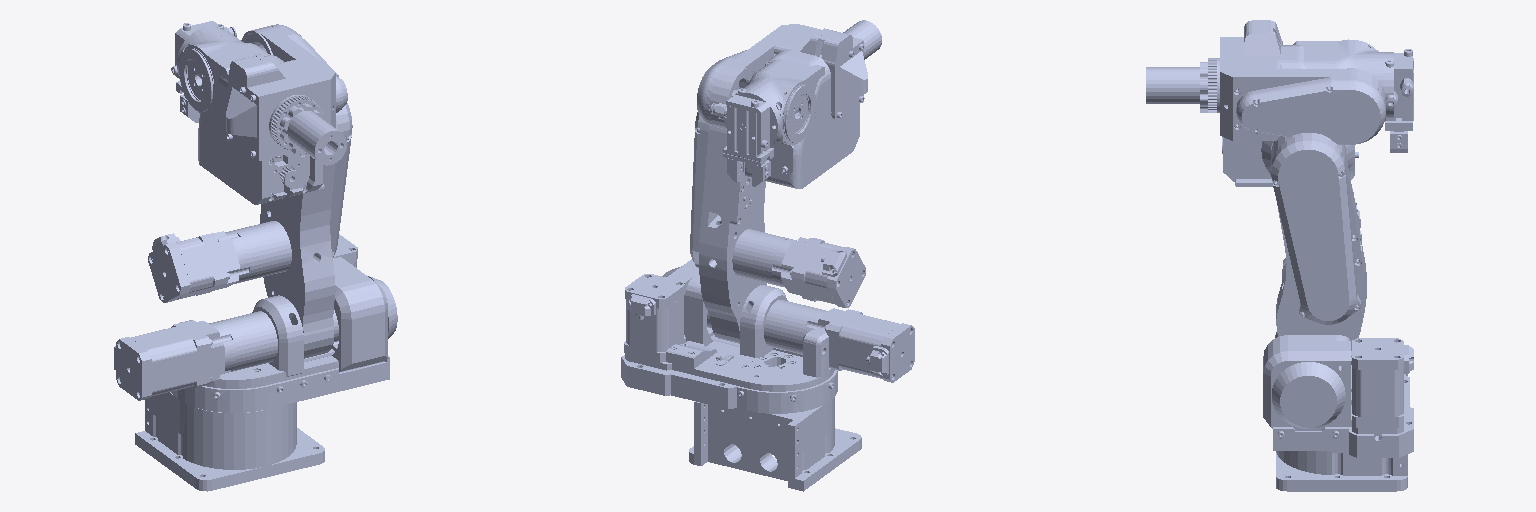
URDF robot description (urdf):
<?xml version="1.0" encoding="utf-8"?>
<!-- This URDF was automatically created by SolidWorks to URDF Exporter! Originally created by Stephen Brawner (brawner@gmail.com) 
     Commit Version: 1.6.0-4-g7f85cfe  Build Version: 1.6.7995.38578
     For more information, please see http://wiki.ros.org/sw_urdf_exporter -->
<robot
  name="urdf">
  <link
    name="base_link">
    <inertial>
      <origin
        xyz="0.000339369597382835 0.00275010725925353 0.0336931378468399"
        rpy="0 0 0" />
      <mass
        value="0.443780931445144" />
      <inertia
        ixx="0.000552454163277918"
        ixy="5.42460911463591E-06"
        ixz="3.64895725241779E-07"
        iyy="0.000635645849180961"
        iyz="-1.13807172613121E-05"
        izz="0.000838262300144542" />
    </inertial>
    <visual>
      <origin
        xyz="0 0 0"
        rpy="0 0 0" />
      <geometry>
        <mesh
          filename="package://urdf/meshes/base_link.STL" />
      </geometry>
      <material
        name="">
        <color
          rgba="0.792156862745098 0.819607843137255 0.933333333333333 1" />
      </material>
    </visual>
    <collision>
      <origin
        xyz="0 0 0"
        rpy="0 0 0" />
      <geometry>
        <mesh
          filename="package://urdf/meshes/base_link.STL" />
      </geometry>
    </collision>
  </link>
  <link
    name="Link1">
    <inertial>
      <origin
        xyz="-0.0268378915375606 0.00438889130322714 0.038620617183439"
        rpy="0 0 0" />
      <mass
        value="0.714843620519897" />
      <inertia
        ixx="0.000587734890630396"
        ixy="5.80390290102342E-05"
        ixz="0.00011469463473121"
        iyy="0.001072287951425"
        iyz="-5.58835405379245E-05"
        izz="0.00126237609971726" />
    </inertial>
    <visual>
      <origin
        xyz="0 0 0"
        rpy="0 0 0" />
      <geometry>
        <mesh
          filename="package://urdf/meshes/Link1.STL" />
      </geometry>
      <material
        name="">
        <color
          rgba="0.792156862745098 0.819607843137255 0.933333333333333 1" />
      </material>
    </visual>
    <collision>
      <origin
        xyz="0 0 0"
        rpy="0 0 0" />
      <geometry>
        <mesh
          filename="package://urdf/meshes/Link1.STL" />
      </geometry>
    </collision>
  </link>
  <joint
    name="J1"
    type="revolute">
    <origin
      xyz="0 0 0.06"
      rpy="0 0 -3.1416" />
    <parent
      link="base_link" />
    <child
      link="Link1" />
    <axis
      xyz="0 0 -1" />
    <limit
      lower="0"
      upper="0"
      effort="0"
      velocity="0" />
  </joint>
  <link
    name="Link2">
    <inertial>
      <origin
        xyz="-0.0087691493923573 -0.0741773118359219 0.0360188077549114"
        rpy="0 0 0" />
      <mass
        value="0.549915908799215" />
      <inertia
        ixx="0.00120445546613287"
        ixy="7.13064910260932E-06"
        ixz="-1.5593179076924E-06"
        iyy="0.000181965514560672"
        iyz="-9.71909591541968E-07"
        izz="0.00131008018011153" />
    </inertial>
    <visual>
      <origin
        xyz="0 0 0"
        rpy="0 0 0" />
      <geometry>
        <mesh
          filename="package://urdf/meshes/Link2.STL" />
      </geometry>
      <material
        name="">
        <color
          rgba="0.792156862745098 0.819607843137255 0.933333333333333 1" />
      </material>
    </visual>
    <collision>
      <origin
        xyz="0 0 0"
        rpy="0 0 0" />
      <geometry>
        <mesh
          filename="package://urdf/meshes/Link2.STL" />
      </geometry>
    </collision>
  </link>
  <joint
    name="J2"
    type="revolute">
    <origin
      xyz="0 0.0234 0.0505"
      rpy="-1.5708 0 1.5708" />
    <parent
      link="Link1" />
    <child
      link="Link2" />
    <axis
      xyz="0 0 1" />
    <limit
      lower="0"
      upper="0"
      effort="0"
      velocity="0" />
  </joint>
  <link
    name="Link3">
    <inertial>
      <origin
        xyz="0.0156265632905355 0.0150442910404316 -0.0027402394132053"
        rpy="0 0 0" />
      <mass
        value="0.31140445561396" />
      <inertia
        ixx="0.000355648928977397"
        ixy="-7.8808263975844E-05"
        ixz="-1.31921786598303E-05"
        iyy="0.000363115314567086"
        iyz="-9.93389103064796E-06"
        izz="0.000458525188905546" />
    </inertial>
    <visual>
      <origin
        xyz="0 0 0"
        rpy="0 0 0" />
      <geometry>
        <mesh
          filename="package://urdf/meshes/Link3.STL" />
      </geometry>
      <material
        name="">
        <color
          rgba="0.792156862745098 0.819607843137255 0.933333333333333 1" />
      </material>
    </visual>
    <collision>
      <origin
        xyz="0 0 0"
        rpy="0 0 0" />
      <geometry>
        <mesh
          filename="package://urdf/meshes/Link3.STL" />
      </geometry>
    </collision>
  </link>
  <joint
    name="J3"
    type="revolute">
    <origin
      xyz="0.0002 -0.18 0"
      rpy="-3.1416 0 0" />
    <parent
      link="Link2" />
    <child
      link="Link3" />
    <axis
      xyz="0 0 1" />
    <limit
      lower="0"
      upper="0"
      effort="0"
      velocity="0" />
  </joint>
  <link
    name="Link4">
    <inertial>
      <origin
        xyz="-0.0132810259990061 -0.000320875110798369 -0.0286184959152811"
        rpy="0 0 0" />
      <mass
        value="0.286762434800896" />
      <inertia
        ixx="0.000273272587136375"
        ixy="1.60874482368838E-06"
        ixz="-4.52821081345524E-05"
        iyy="0.000265236633639222"
        iyz="3.14249123824448E-07"
        izz="0.000149984275318857" />
    </inertial>
    <visual>
      <origin
        xyz="0 0 0"
        rpy="0 0 0" />
      <geometry>
        <mesh
          filename="package://urdf/meshes/Link4.STL" />
      </geometry>
      <material
        name="">
        <color
          rgba="0.792156862745098 0.819607843137255 0.933333333333333 1" />
      </material>
    </visual>
    <collision>
      <origin
        xyz="0 0 0"
        rpy="0 0 0" />
      <geometry>
        <mesh
          filename="package://urdf/meshes/Link4.STL" />
      </geometry>
    </collision>
  </link>
  <joint
    name="J4"
    type="revolute">
    <origin
      xyz="0.071 0.0435 0"
      rpy="3.1416 -1.5708 0" />
    <parent
      link="Link3" />
    <child
      link="Link4" />
    <axis
      xyz="0 0 1" />
    <limit
      lower="0"
      upper="0"
      effort="0"
      velocity="0" />
  </joint>
  <link
    name="Link5">
    <inertial>
      <origin
        xyz="0.0075412665616055 2.23804536563232E-05 -0.00157786748261055"
        rpy="0 0 0" />
      <mass
        value="0.19679388536853" />
      <inertia
        ixx="8.56888952240538E-05"
        ixy="1.44577085621909E-07"
        ixz="5.00740798986512E-07"
        iyy="9.4611341467242E-05"
        iyz="7.24501458526887E-08"
        izz="9.73525826430094E-05" />
    </inertial>
    <visual>
      <origin
        xyz="0 0 0"
        rpy="0 0 0" />
      <geometry>
        <mesh
          filename="package://urdf/meshes/Link5.STL" />
      </geometry>
      <material
        name="">
        <color
          rgba="0.792156862745098 0.819607843137255 0.933333333333333 1" />
      </material>
    </visual>
    <collision>
      <origin
        xyz="0 0 0"
        rpy="0 0 0" />
      <geometry>
        <mesh
          filename="package://urdf/meshes/Link5.STL" />
      </geometry>
    </collision>
  </link>
  <joint
    name="J5"
    type="revolute">
    <origin
      xyz="0 0 -0.1053"
      rpy="0 -1.5708 0" />
    <parent
      link="Link4" />
    <child
      link="Link5" />
    <axis
      xyz="0 0 1" />
    <limit
      lower="0"
      upper="0"
      effort="0"
      velocity="0" />
  </joint>
  <link
    name="Link6">
    <inertial>
      <origin
        xyz="0.00114664307646055 -0.00648328490077216 0.00382227905940397"
        rpy="0 0 0" />
      <mass
        value="0.0727663911992585" />
      <inertia
        ixx="1.81658563319636E-05"
        ixy="2.51881534482609E-07"
        ixz="-9.28201872335867E-07"
        iyy="1.40940418476678E-05"
        iyz="-9.47114034166711E-07"
        izz="2.35638492689824E-05" />
    </inertial>
    <visual>
      <origin
        xyz="0 0 0"
        rpy="0 0 0" />
      <geometry>
        <mesh
          filename="package://urdf/meshes/Link6.STL" />
      </geometry>
      <material
        name="">
        <color
          rgba="0.792156862745098 0.819607843137255 0.933333333333333 1" />
      </material>
    </visual>
    <collision>
      <origin
        xyz="0 0 0"
        rpy="0 0 0" />
      <geometry>
        <mesh
          filename="package://urdf/meshes/Link6.STL" />
      </geometry>
    </collision>
  </link>
  <joint
    name="J6"
    type="revolute">
    <origin
      xyz="-0.0505 0 0"
      rpy="3.1416 1.5708 0" />
    <parent
      link="Link5" />
    <child
      link="Link6" />
    <axis
      xyz="0 0 -1" />
    <limit
      lower="0"
      upper="0"
      effort="0"
      velocity="0" />
  </joint>
</robot>

--- What the picture shows (computed from the rendered views, not written in the file) ---
The picture shows the robot from 3 angles, left to right: view 1: azimuth 30°, elevation 25°; view 2: azimuth 150°, elevation 25°; view 3: azimuth 270°, elevation 25°; orthographic projection.
Model urdf with 7 links and 6 joints (6 revolute), rooted at base_link, posed all joints at 0.
Links seen in each view (by area): view 1: Link1, Link2, Link4, base_link, Link3, Link5, Link6; view 2: Link1, Link2, base_link, Link4, Link3, Link5, Link6; view 3: Link2, Link4, Link1, base_link, Link3, Link5, Link6.
Link boxes in pixels (bbox=[...]): Link1: bbox=[114, 234, 389, 412]; Link2: bbox=[148, 103, 397, 358]; Link4: bbox=[226, 24, 347, 165]; base_link: bbox=[135, 392, 324, 491]; Link3: bbox=[198, 55, 324, 204]; Link5: bbox=[177, 25, 269, 112]; Link6: bbox=[171, 21, 236, 122]; Link1: bbox=[621, 259, 914, 413]; Link2: bbox=[662, 90, 865, 343]; base_link: bbox=[689, 397, 861, 491]; Link4: bbox=[697, 20, 881, 129]; Link3: bbox=[745, 30, 859, 188]; Link5: bbox=[725, 59, 824, 145]; Link6: bbox=[710, 83, 785, 186]; Link2: bbox=[1271, 133, 1366, 428]; Link4: bbox=[1146, 20, 1385, 144]; Link1: bbox=[1263, 258, 1413, 457]; base_link: bbox=[1276, 373, 1407, 491]; Link3: bbox=[1222, 45, 1358, 186]; Link5: bbox=[1293, 39, 1393, 117]; Link6: bbox=[1366, 49, 1413, 152].
Bounding box of the posed robot: 0.2381 × 0.217 × 0.3772 m (x, y, z).
Meshes: 7 distinct files referenced, 7 mesh visuals loaded (7 binary STL).
